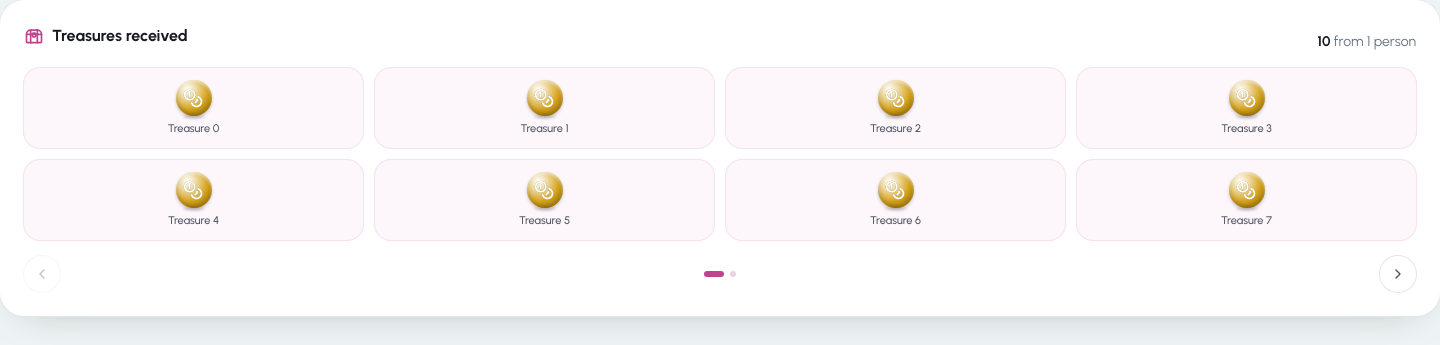
Test: TreasureShowcase › turns a full shelf over with next and previous
expect the button named "Previous treasures" is disabled: met, box [24,256,60,292]
Step 1. Click the button named "Next treasures" → click(1398, 274), box [1380,256,1416,292]
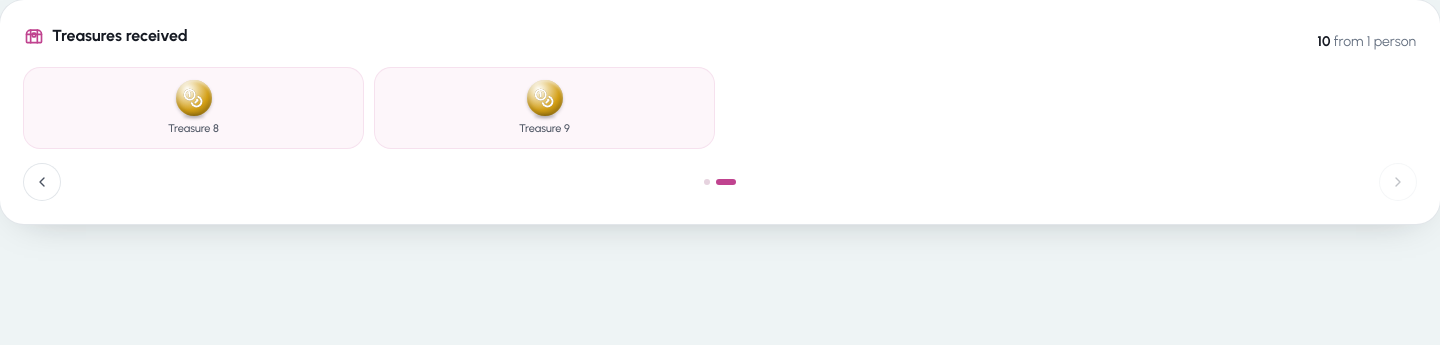
expect the button named "Next treasures" is disabled: met, box [1380,164,1416,200]
expect the number of list items is 2: met, box [24,68,363,148]; [375,68,714,148]
Step 2. Click the button named "Previous treasures" → click(42, 182), box [24,164,60,200]
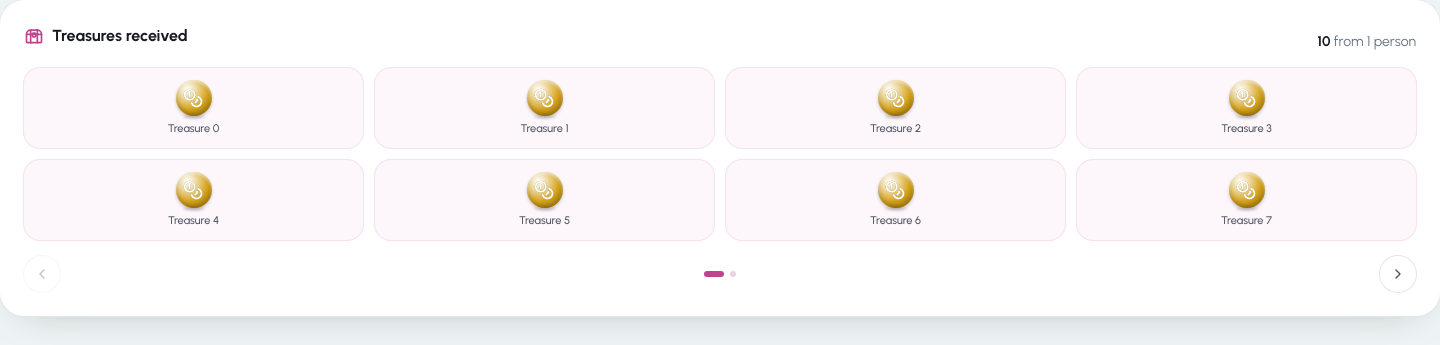
expect the number of list items is 8: met
